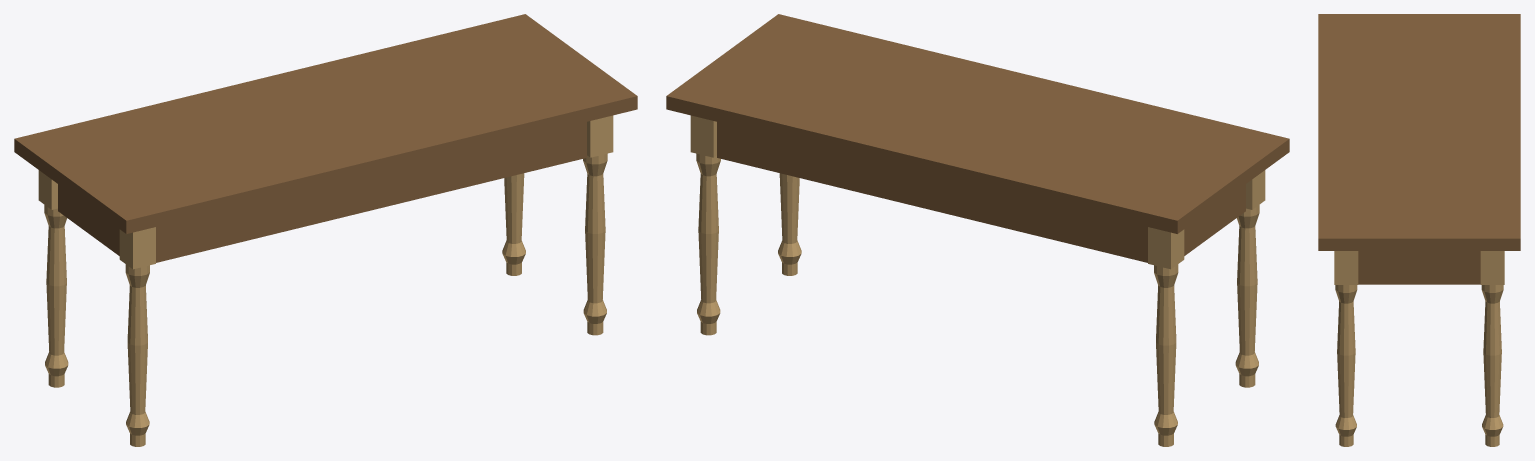
The model's file is FET-EBN-std.glb.
The picture shows the model from 3 angles, left to right: view 1: azimuth 30°, elevation 25°; view 2: azimuth 150°, elevation 25°; view 3: azimuth 270°, elevation 25°; orthographic projection. The views are drawn at different scales.
Parts seen in each view (by area): view 1: top:pbr, apron-f:pbr, leg-fl:pbr, leg-fr:pbr, leg-bl:pbr, leg-br:pbr, apron-l:pbr; view 2: top:pbr, apron-b:pbr, leg-bl:pbr, leg-br:pbr, leg-fl:pbr, leg-fr:pbr, apron-l:pbr; view 3: top:pbr, apron-r:pbr, leg-fr:pbr, leg-br:pbr.
Part boxes in pixels (x1,y1,x2,y2): top:pbr: (14,14,637,233); apron-f:pbr: (156,122,586,262); leg-fl:pbr: (119,227,155,446); leg-fr:pbr: (583,115,613,335); leg-bl:pbr: (38,170,68,387); leg-br:pbr: (502,173,525,275); apron-l:pbr: (58,184,119,255); top:pbr: (666,14,1289,233); apron-b:pbr: (717,122,1147,262); leg-bl:pbr: (1148,227,1184,446); leg-br:pbr: (690,115,720,335); leg-fl:pbr: (1235,170,1265,387); leg-fr:pbr: (778,173,801,275); apron-l:pbr: (1184,184,1245,255); top:pbr: (1318,14,1520,250); apron-r:pbr: (1358,251,1480,284); leg-fr:pbr: (1334,251,1358,446); leg-br:pbr: (1480,251,1504,446).
Size of the model in its own units: 1 by 0.45 by 0.38.
